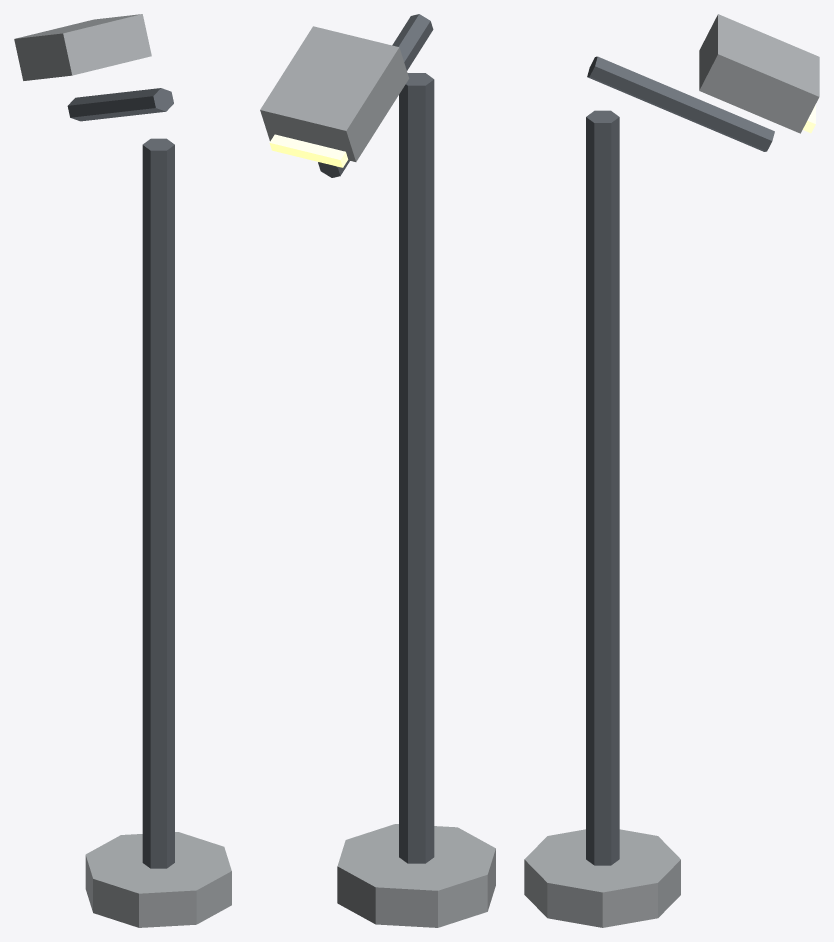
Rendered from TC_ENV_LightPole_V1.glb.
The picture shows the model from 3 angles, left to right: view 1: azimuth 30°, elevation 25°; view 2: azimuth 150°, elevation 25°; view 3: azimuth 270°, elevation 25°; orthographic projection. The views are drawn at different scales.
Parts seen in each view (by area): view 1: TC_ENV_LightPole_V1; view 2: TC_ENV_LightPole_V1; view 3: TC_ENV_LightPole_V1.
Boxes of the visible parts, x1,y1,x2,y2 form: TC_ENV_LightPole_V1: [14, 14, 231, 927]; TC_ENV_LightPole_V1: [260, 14, 495, 927]; TC_ENV_LightPole_V1: [524, 14, 819, 927].
Size of the model in its own units: 0.56 by 3.4 by 1.06.
